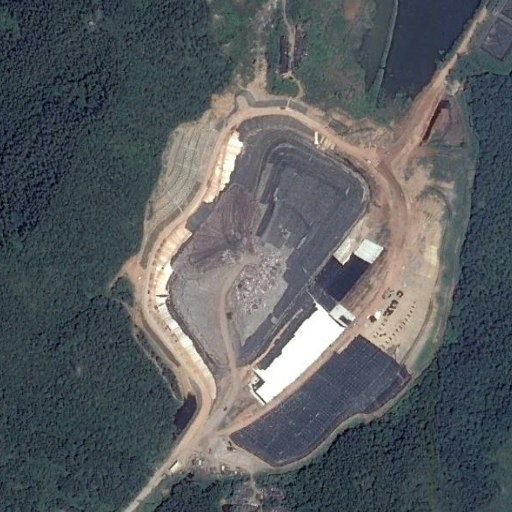lf: (158, 99, 466, 468)
